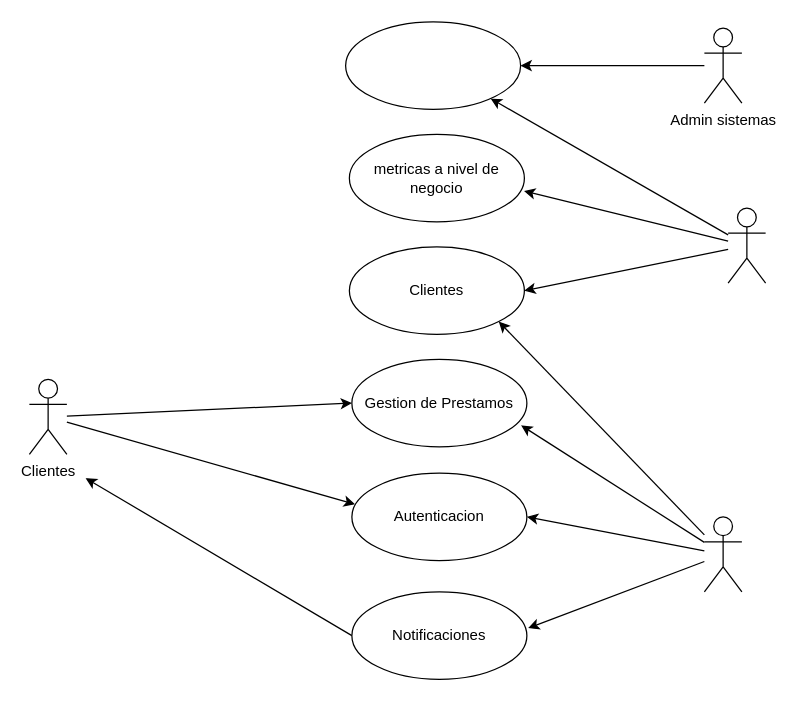
Some shapes in this 806 by 701 pixel diagram are drawn without their labels. The shapes that lost their labels are listed below. From the top down, each one's centre as x and y in pixels, then its label:
At [432,65]: "Gestion de cuentas administrativas".
At [746,245]: "Gerentes".
At [722,554]: "Asesor de creditos".
